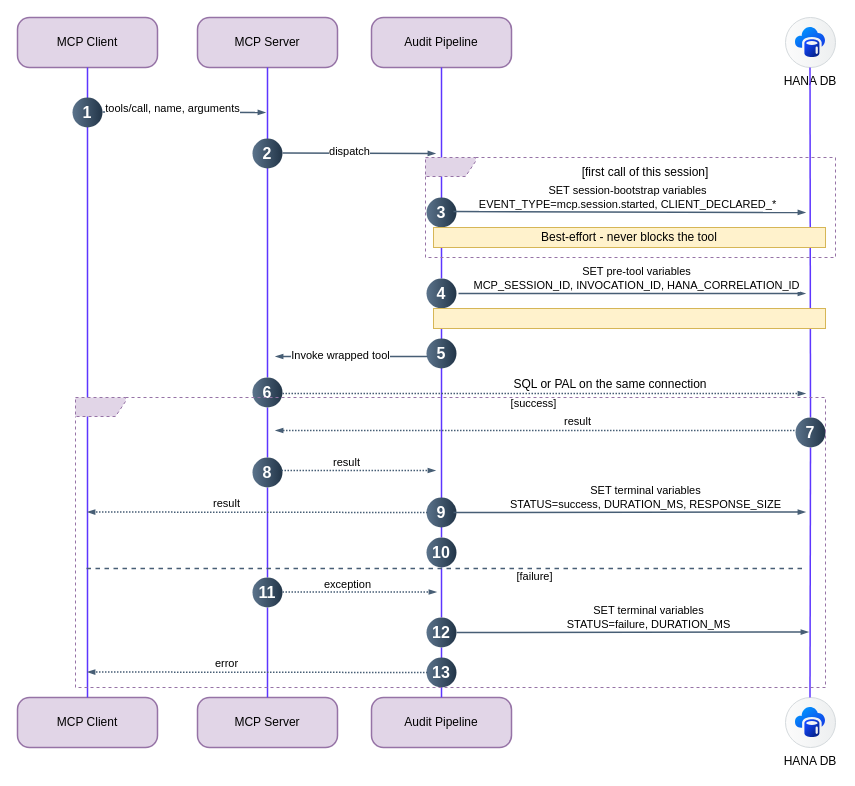
This 855x786 diagram has some shape labels left out. The shapes that lost their labels are listed below. From the top down, each one's box as (x1, y1, x2, y2) in pixels, then its label:
(424, 156, 836, 258): opt
(432, 308, 826, 328): Strict - failure here aborts the call as failed
(74, 396, 826, 688): alt
